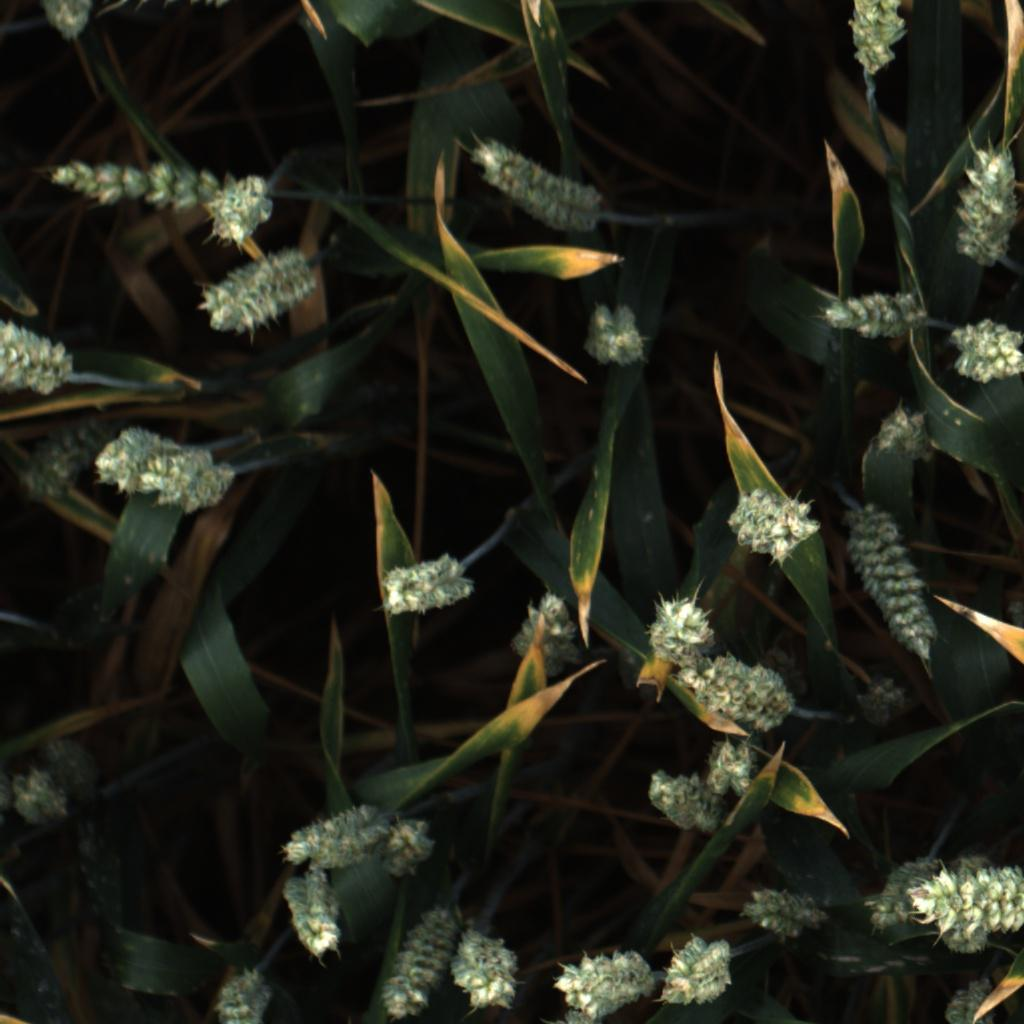0-0: (463, 129, 604, 243), (843, 505, 942, 660), (205, 245, 309, 339), (950, 137, 1024, 267), (928, 844, 1009, 958), (673, 657, 799, 729), (49, 155, 203, 212), (379, 912, 456, 1023), (728, 479, 822, 567), (273, 798, 380, 874), (375, 545, 478, 621), (913, 864, 1024, 933), (93, 419, 184, 501), (553, 941, 655, 1013), (20, 416, 105, 501), (814, 285, 931, 345), (652, 930, 735, 1011), (843, 0, 925, 81), (200, 164, 279, 246), (637, 760, 721, 832), (279, 874, 348, 960), (838, 665, 918, 739), (511, 584, 576, 675), (640, 592, 721, 665), (943, 316, 1024, 389), (449, 929, 523, 1008), (740, 880, 828, 945), (149, 448, 237, 511), (0, 323, 76, 395), (584, 297, 650, 372), (865, 854, 927, 932), (869, 401, 934, 468), (381, 813, 442, 879), (701, 729, 759, 796), (209, 969, 279, 1024), (13, 763, 65, 830), (934, 971, 993, 1024), (34, 0, 97, 42)
